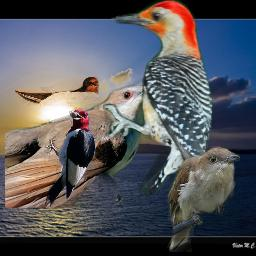Cuckoo: (5, 85, 164, 208), (166, 146, 240, 252)
Swallow: (15, 76, 99, 106)
Woodpecker: (103, 0, 217, 195), (41, 103, 96, 211)
